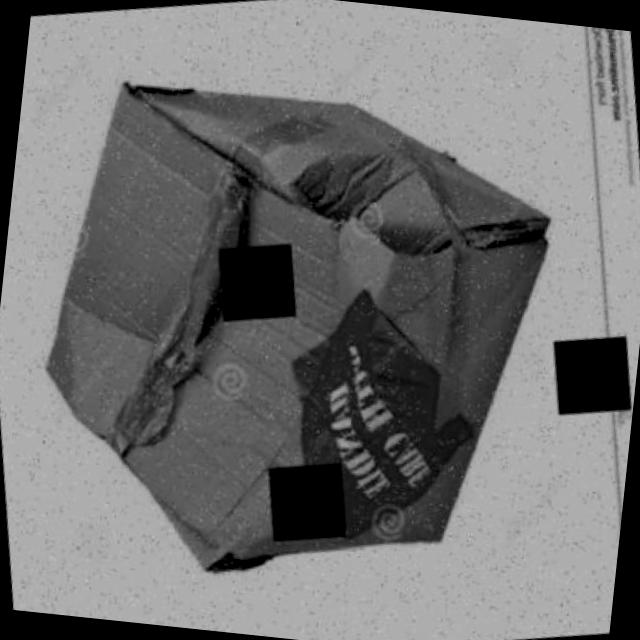box: (0, 2, 625, 639)
